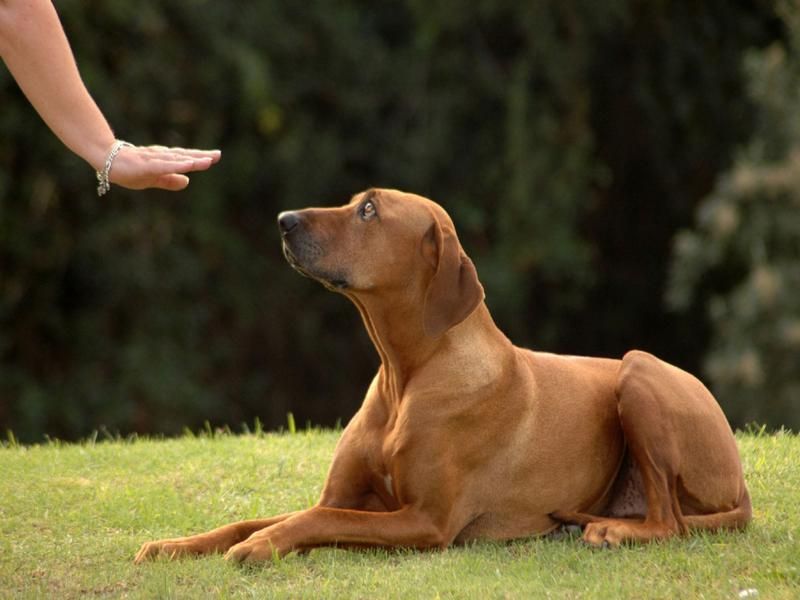dog_down: (125, 185, 759, 575)
